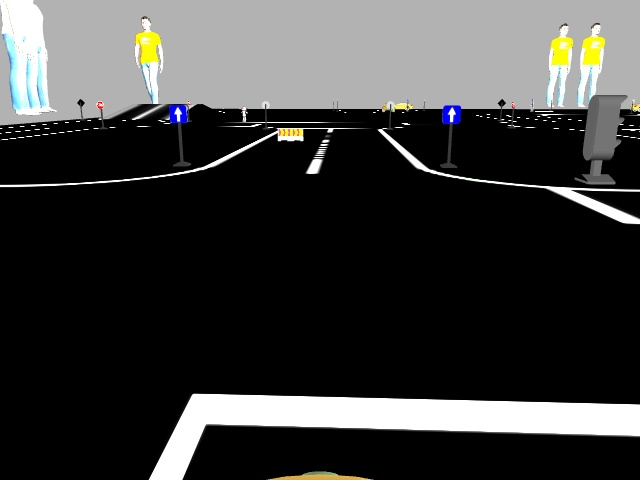ClosedRoadStand: (276, 129, 301, 141)
OneWay: (443, 106, 459, 123), (169, 108, 187, 123)
